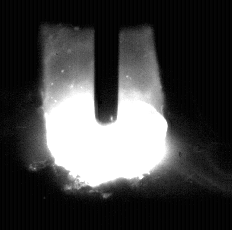arame: (95, 0, 120, 125)
poca: (45, 0, 170, 230)
